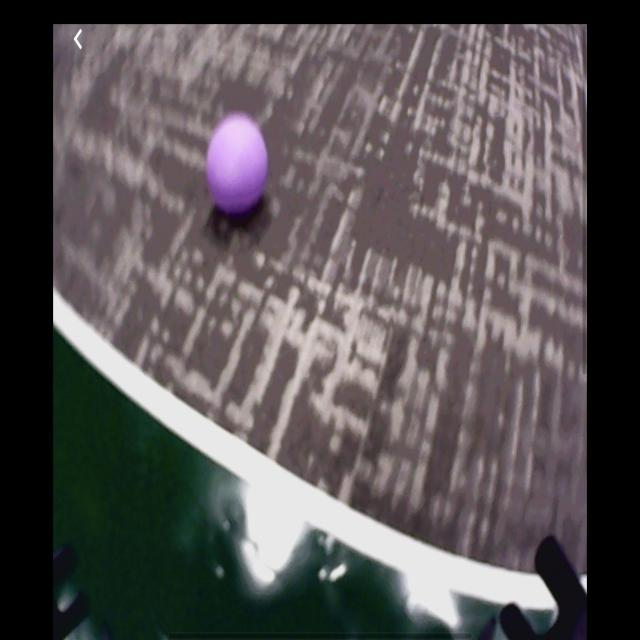ball: (207, 117, 272, 213)
